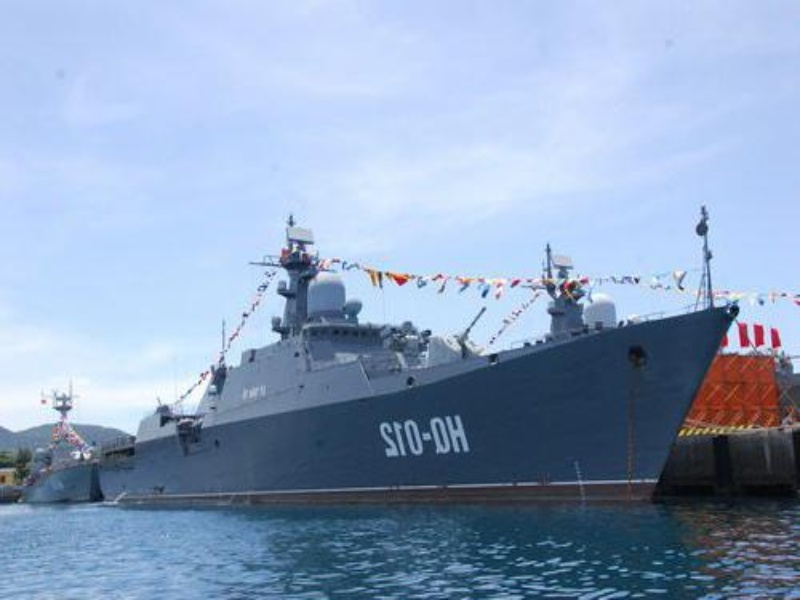cruise: (115, 246, 729, 515), (3, 391, 99, 509)
